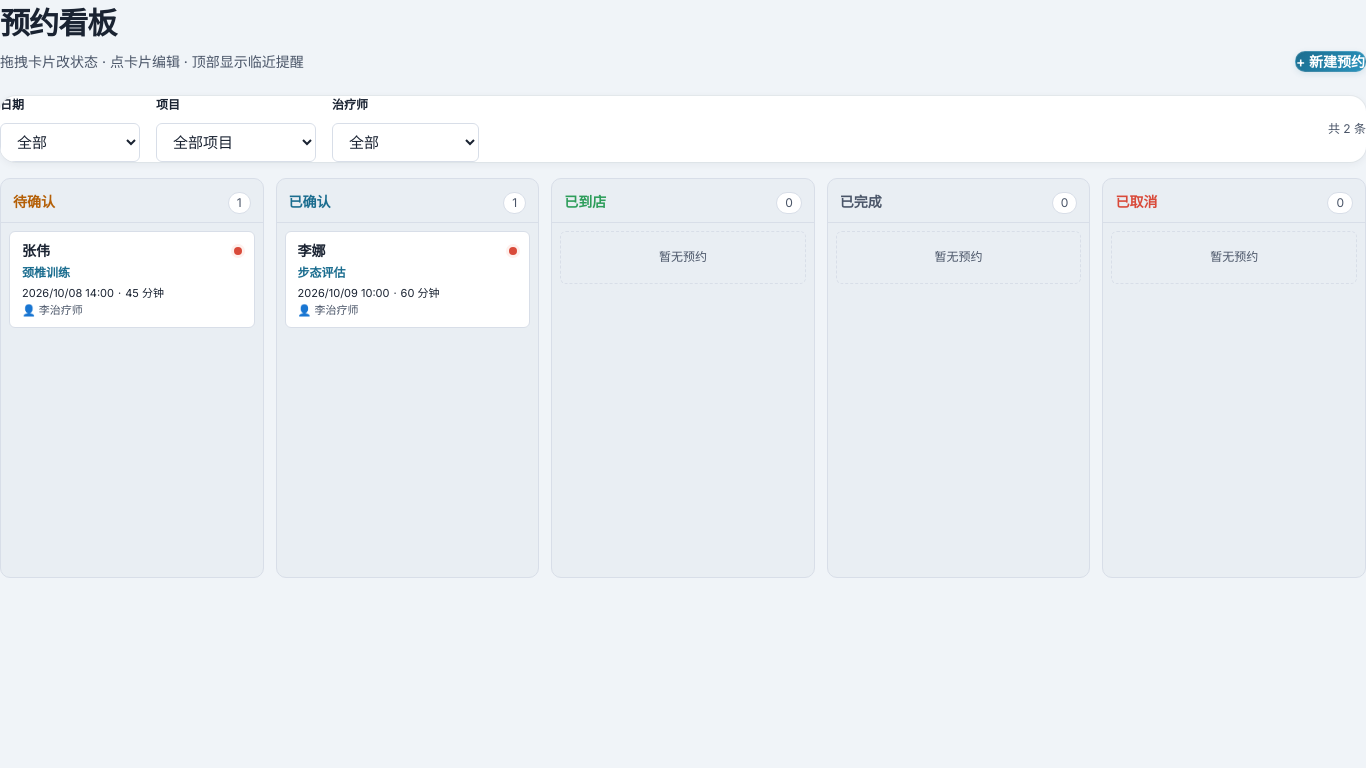
AppointmentsPage › 点击卡片 → 打开编辑弹窗
Click the element with test id "appointment-card-a1" at (132, 280), box x1=9 y1=231 x2=255 y2=328
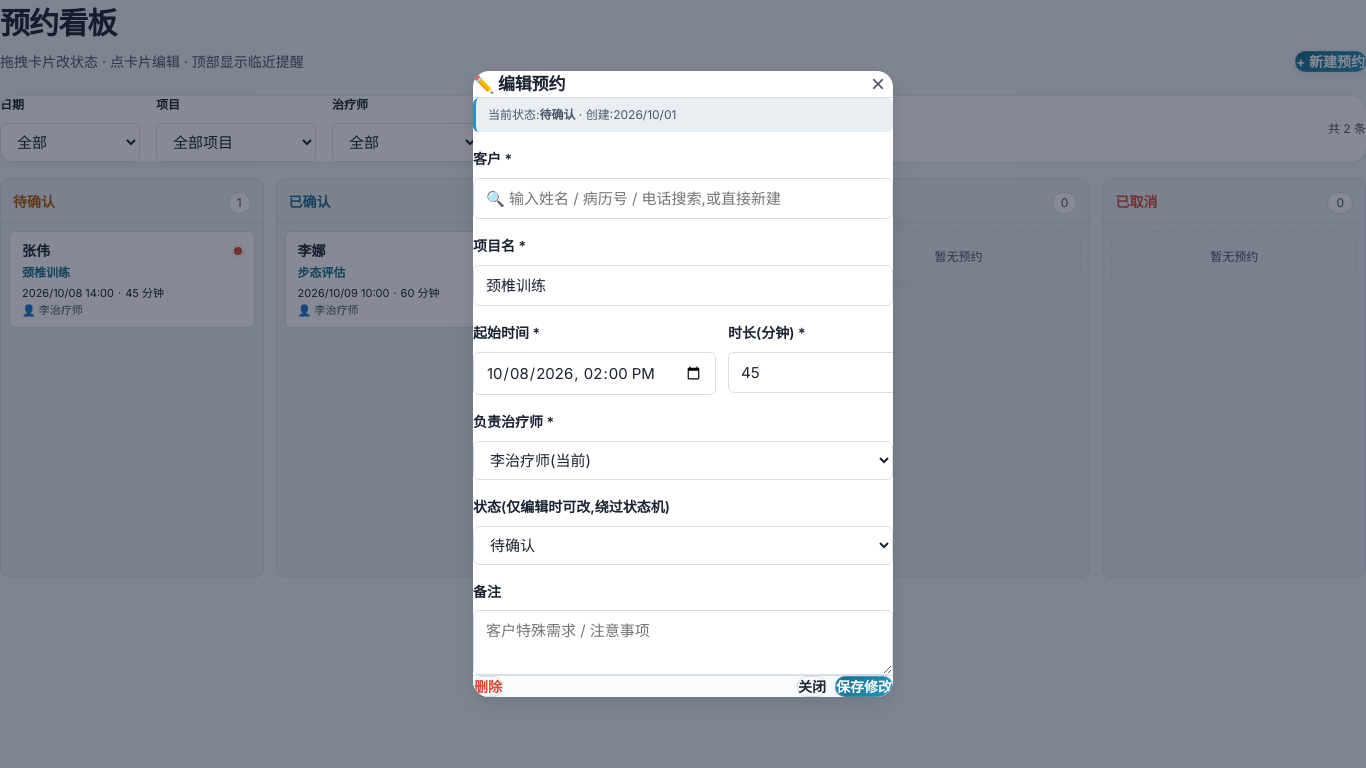
Expected: the element with test id "appointment-form-backdrop" is shown
Expected: the heading "✏️ 编辑预约" is shown, x1=473 y1=70 x2=565 y2=97
